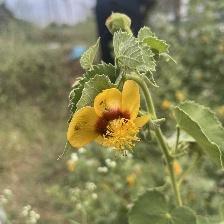indian mallow: (65, 78, 154, 157)
